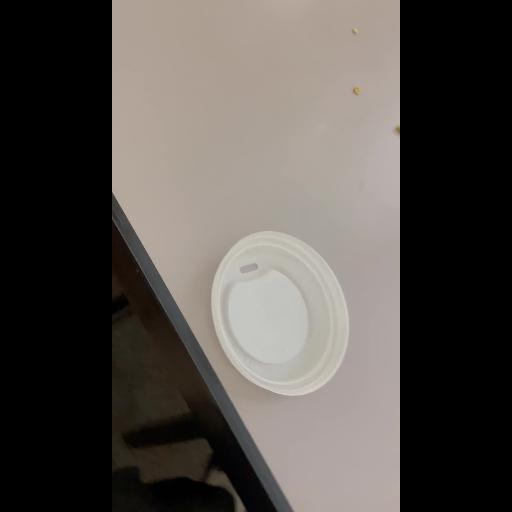lp_cup_lids: (202, 214, 358, 402)
